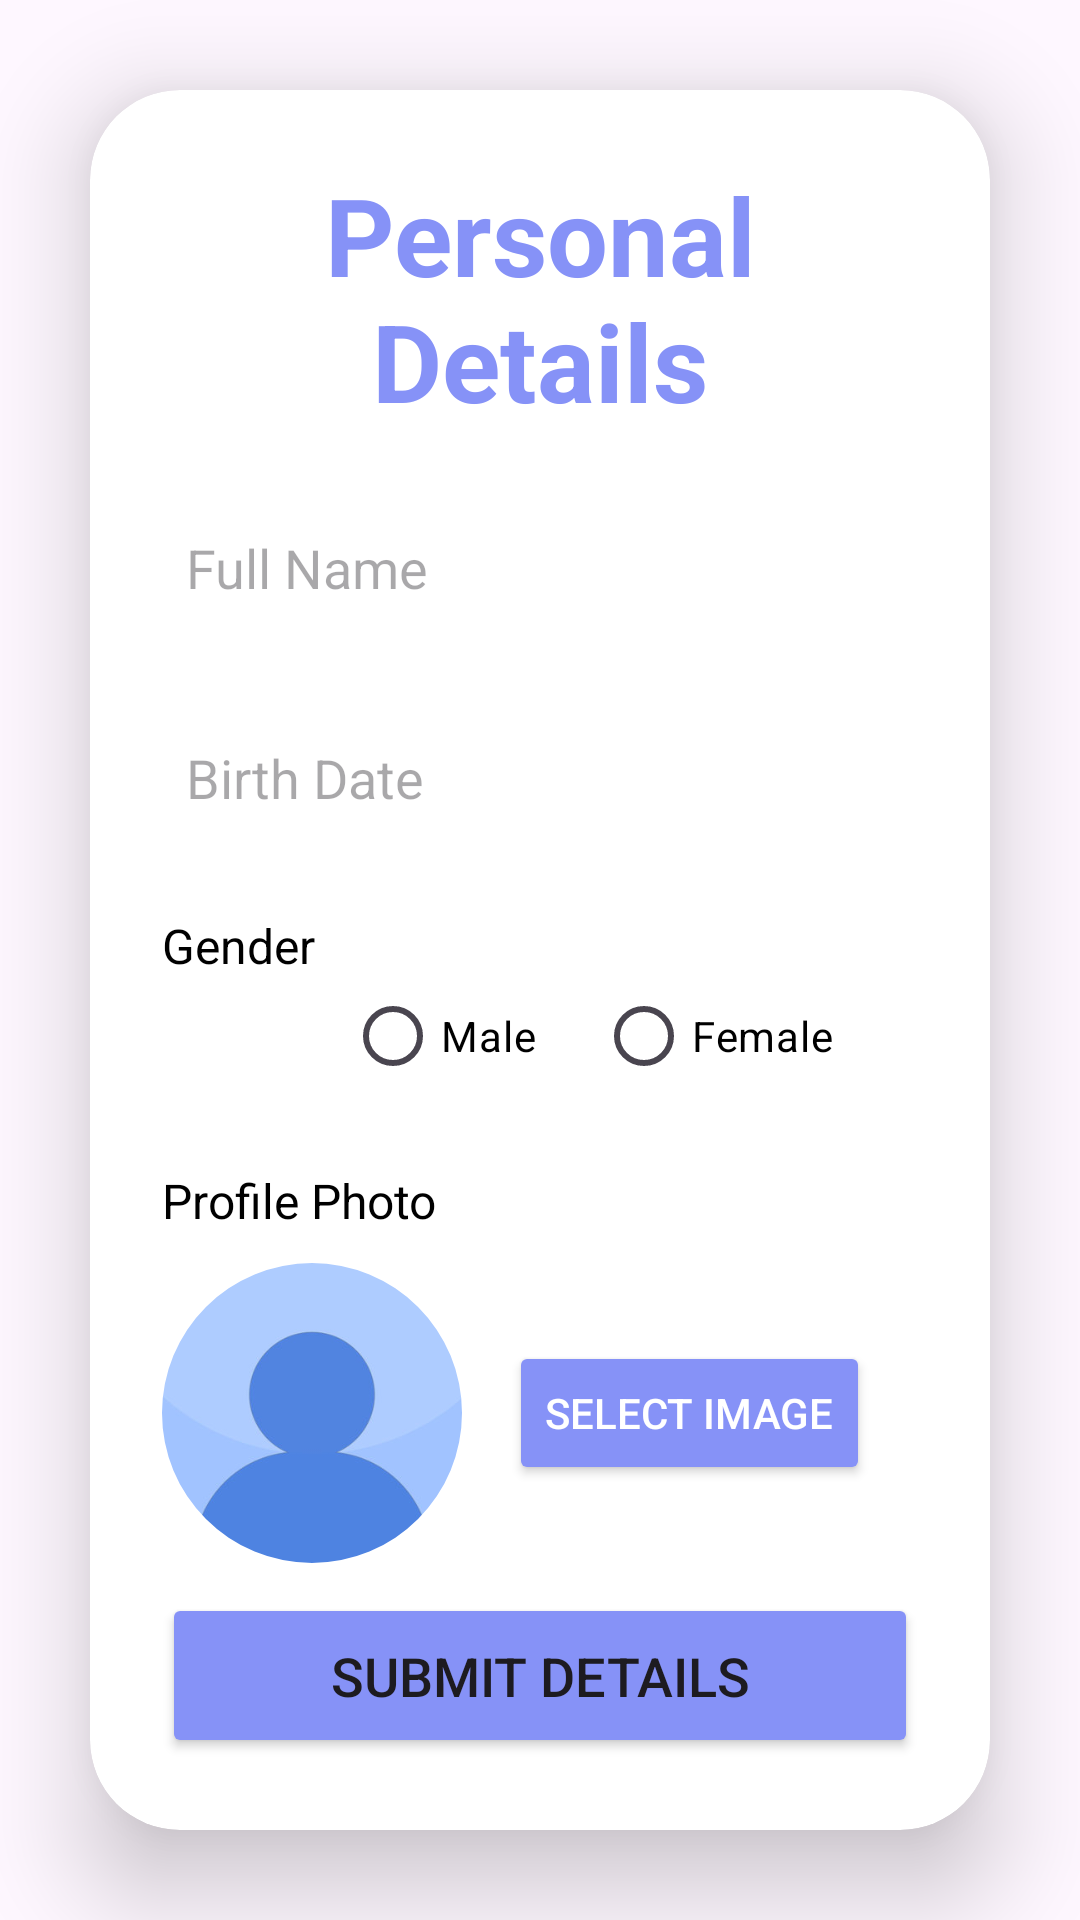

Where icons sit on this 1080*1920 app screen, as (x1, y1, x2, y2):
defaultprofile: (162, 1263, 462, 1563)
